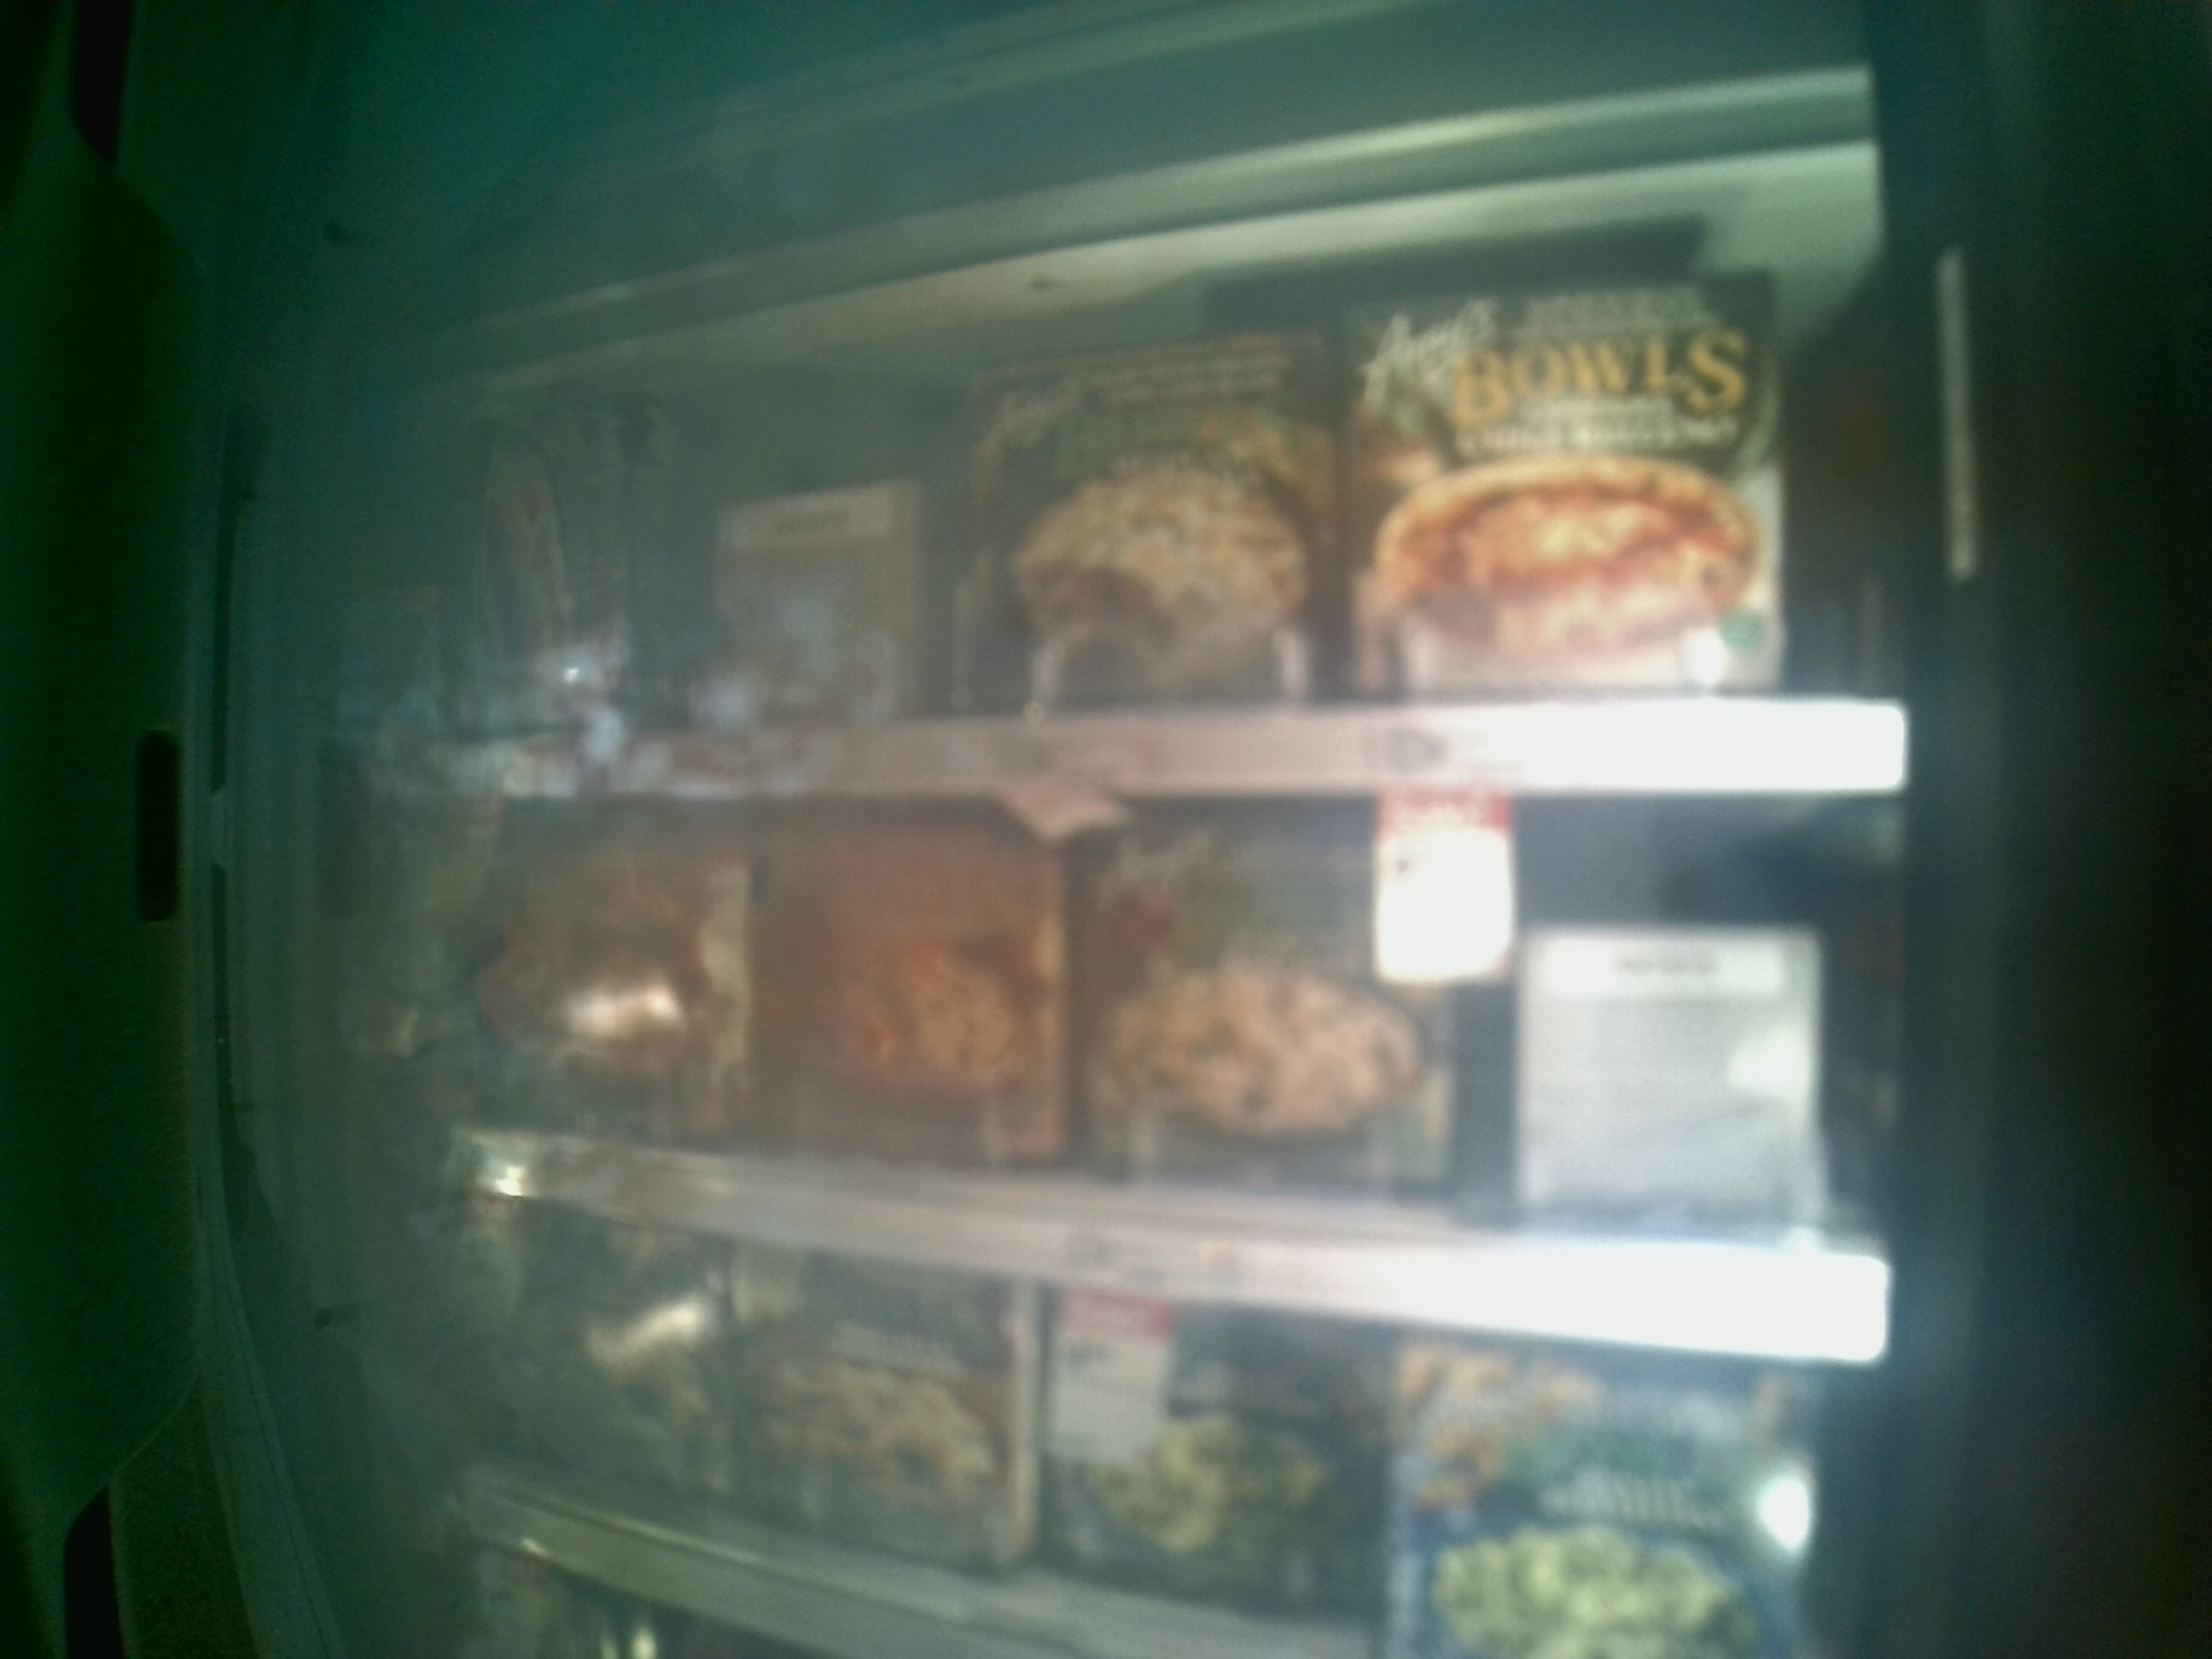frozen-food-shelf: (366, 802, 1914, 1368), (364, 413, 1914, 802)
